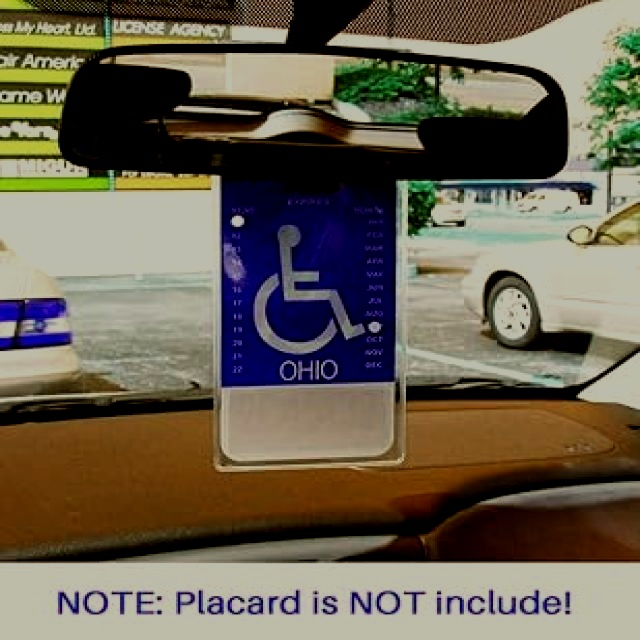ISA: (245, 213, 382, 359)
